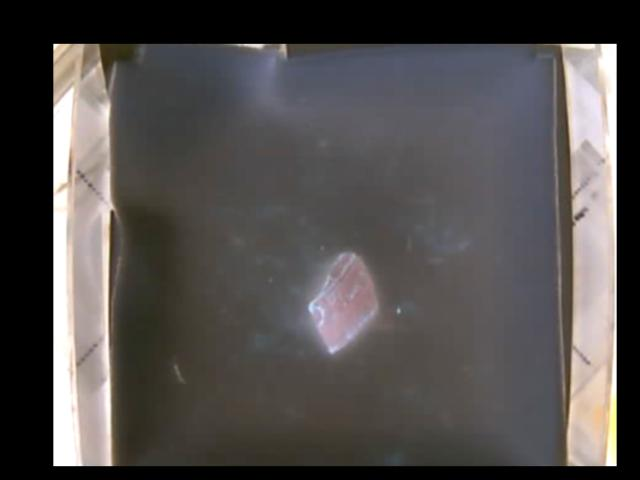China: (310, 255, 379, 351)
